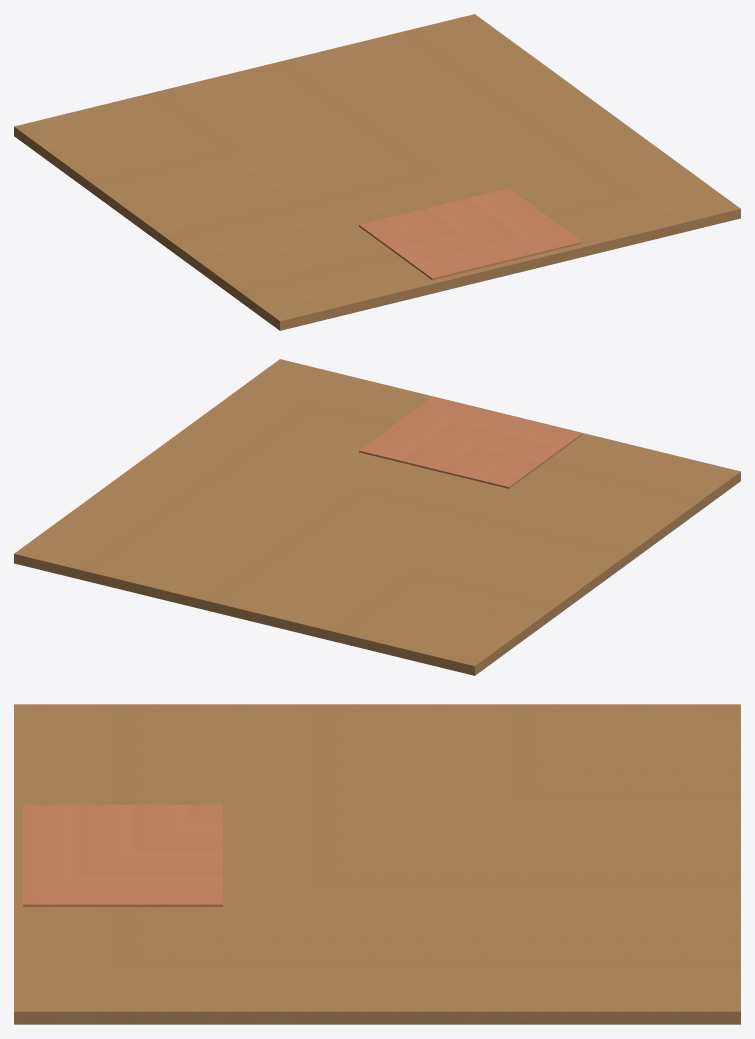
The model's file is floor.glb.
3 views of the same model, one above another, from view 1: azimuth 30°, elevation 25°; view 2: azimuth 150°, elevation 25°; view 3: azimuth 270°, elevation 25° (orthographic). The views are drawn at different scales.
Parts seen in each view (by area): view 1: floor; view 2: floor; view 3: floor.
Part boxes in pixels (x1,y1,x2,y2): floor: (14, 14, 740, 330); floor: (14, 359, 740, 675); floor: (14, 704, 740, 1024).
Size of the model in its own units: 4 by 0.1 by 4.
Materials: 1 (1 with a texture image).
